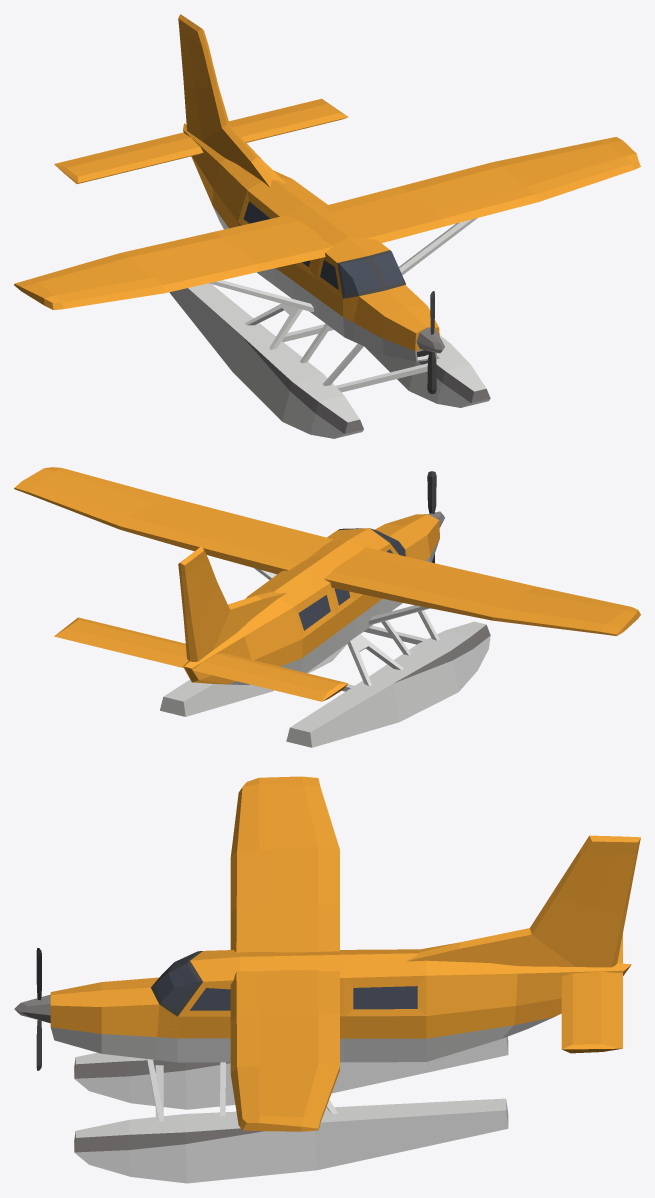
The model's file is floatplane.fbx.
The picture shows the model from 3 angles, top to bottom: view 1: azimuth 30°, elevation 25°; view 2: azimuth 150°, elevation 25°; view 3: azimuth 270°, elevation 25°; orthographic projection. The views are drawn at different scales.
Visible parts, largest first — view 1: floatplane-base, floatplane-propeller; view 2: floatplane-base, floatplane-propeller; view 3: floatplane-base, floatplane-propeller.
Part boxes in pixels (x1,y1,x2,y2): floatplane-base: (14,14,640,438); floatplane-propeller: (416,291,444,394); floatplane-base: (14,467,640,747); floatplane-propeller: (427,471,444,563); floatplane-base: (50,776,640,1183); floatplane-propeller: (14,948,50,1070).
Bounding box in the file's own units: 13.7 × 5.4 × 10.34.
